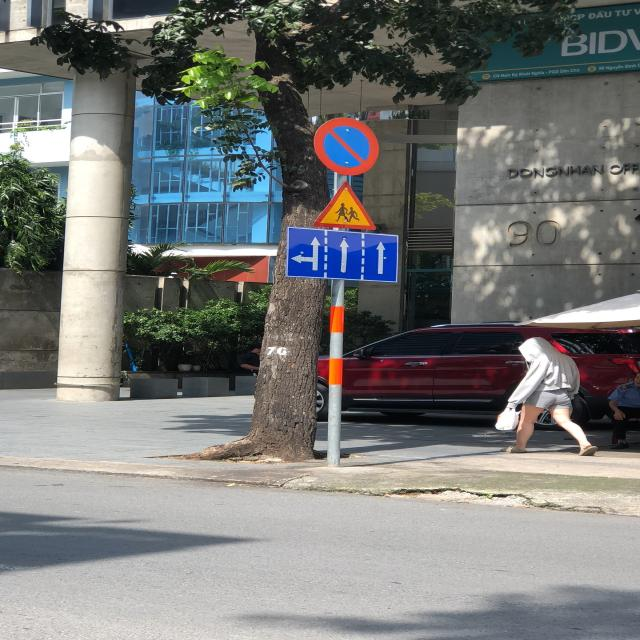Bien bao cam do xe: (310, 108, 388, 176)
Bien bao tre em: (314, 180, 380, 230)
